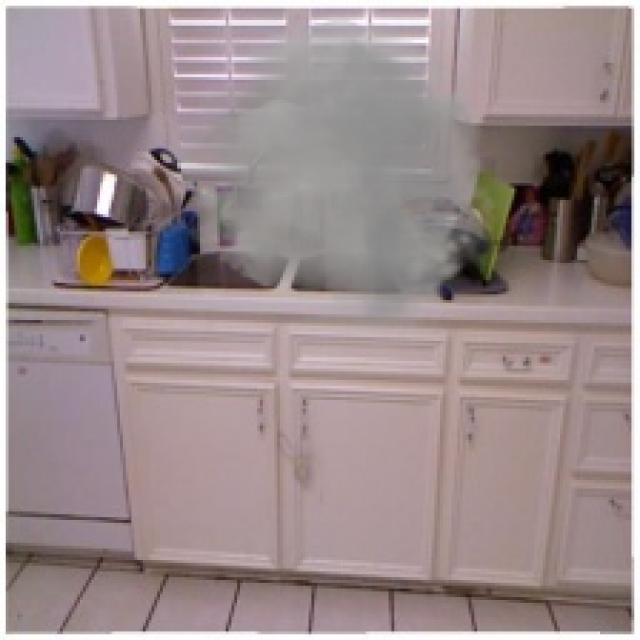smoke: (154, 12, 512, 357)
